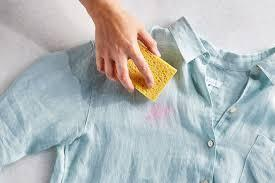kimchi: (141, 101, 172, 119)
